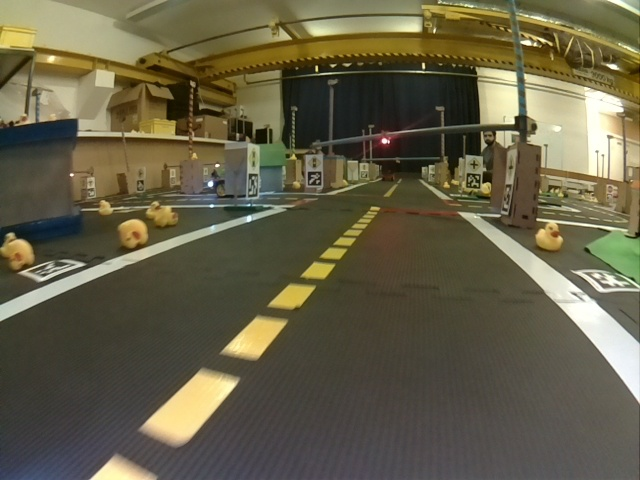Duckie: (119, 219, 149, 247), (537, 222, 564, 250), (10, 240, 35, 269), (1, 233, 17, 258), (155, 209, 178, 226), (147, 202, 159, 217)
Intersection sign: (506, 153, 516, 182), (467, 157, 481, 172)
QR code: (577, 269, 639, 293), (24, 258, 85, 281), (501, 184, 511, 212), (248, 173, 259, 197), (466, 172, 481, 189), (307, 171, 322, 187)
Signal sign: (248, 147, 260, 171), (308, 155, 322, 170)
Traffic light: (381, 135, 390, 145)
